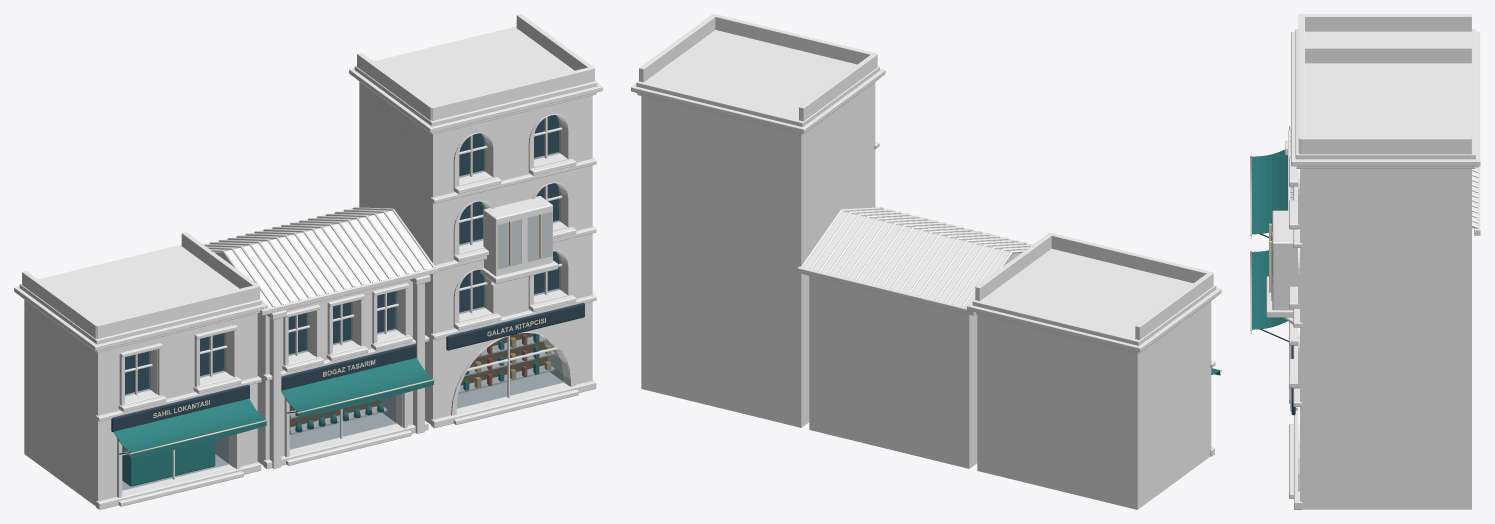
File: DistrictBlock_0_1.glb
3 views of the same model, side by side, from view 1: azimuth 30°, elevation 25°; view 2: azimuth 150°, elevation 25°; view 3: azimuth 270°, elevation 25° (orthographic). The views are drawn at different scales.
Parts seen in each view (by area): view 1: RK_DistrictBlock_0_1_LC_Lime, RK_DistrictBlock_0_1_LC_Coral, RK_DistrictBlock_0_1_LC_Wood, RK_DistrictBlock_0_1_LC_Glass, RK_DistrictBlock_0_1_LC_Tile, RK_DistrictBlock_0_1_LC_Ink, RK_DistrictBlock_0_1_LC_Teal, RK_DistrictBlock_0_1_LC_Interior, RK_DistrictBlock_0_1_LC_Canvas; view 2: RK_DistrictBlock_0_1_LC_Lime, RK_DistrictBlock_0_1_LC_Coral, RK_DistrictBlock_0_1_LC_Wood, RK_DistrictBlock_0_1_LC_Tile; view 3: RK_DistrictBlock_0_1_LC_Lime, RK_DistrictBlock_0_1_LC_Teal, RK_DistrictBlock_0_1_LC_Coral, RK_DistrictBlock_0_1_LC_Wood, RK_DistrictBlock_0_1_LC_Canvas, RK_DistrictBlock_0_1_LC_Tile.
Part boxes in pixels (bbox=[...]): RK_DistrictBlock_0_1_LC_Lime: bbox=[14, 14, 602, 509]; RK_DistrictBlock_0_1_LC_Coral: bbox=[22, 232, 259, 506]; RK_DistrictBlock_0_1_LC_Wood: bbox=[122, 117, 568, 494]; RK_DistrictBlock_0_1_LC_Glass: bbox=[122, 115, 562, 490]; RK_DistrictBlock_0_1_LC_Tile: bbox=[203, 207, 435, 309]; RK_DistrictBlock_0_1_LC_Ink: bbox=[111, 115, 584, 432]; RK_DistrictBlock_0_1_LC_Teal: bbox=[114, 333, 539, 486]; RK_DistrictBlock_0_1_LC_Interior: bbox=[122, 333, 547, 449]; RK_DistrictBlock_0_1_LC_Canvas: bbox=[129, 213, 545, 455]; RK_DistrictBlock_0_1_LC_Lime: bbox=[631, 14, 1221, 456]; RK_DistrictBlock_0_1_LC_Coral: bbox=[975, 233, 1213, 509]; RK_DistrictBlock_0_1_LC_Wood: bbox=[797, 208, 1030, 468]; RK_DistrictBlock_0_1_LC_Tile: bbox=[800, 207, 1032, 307]; RK_DistrictBlock_0_1_LC_Lime: bbox=[1266, 29, 1480, 509]; RK_DistrictBlock_0_1_LC_Teal: bbox=[1251, 149, 1287, 333]; RK_DistrictBlock_0_1_LC_Coral: bbox=[1298, 14, 1471, 46]; RK_DistrictBlock_0_1_LC_Wood: bbox=[1272, 130, 1480, 324]; RK_DistrictBlock_0_1_LC_Canvas: bbox=[1250, 156, 1271, 330]; RK_DistrictBlock_0_1_LC_Tile: bbox=[1289, 129, 1478, 228].
Size of the model in its own units: 19.1 by 11.47 by 6.44.
